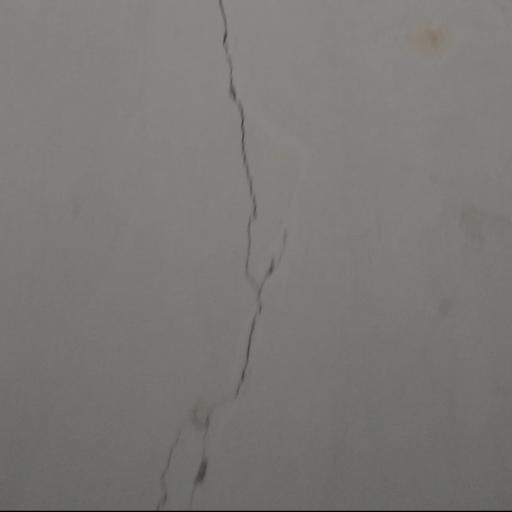minor_crack: (149, 0, 284, 512)
